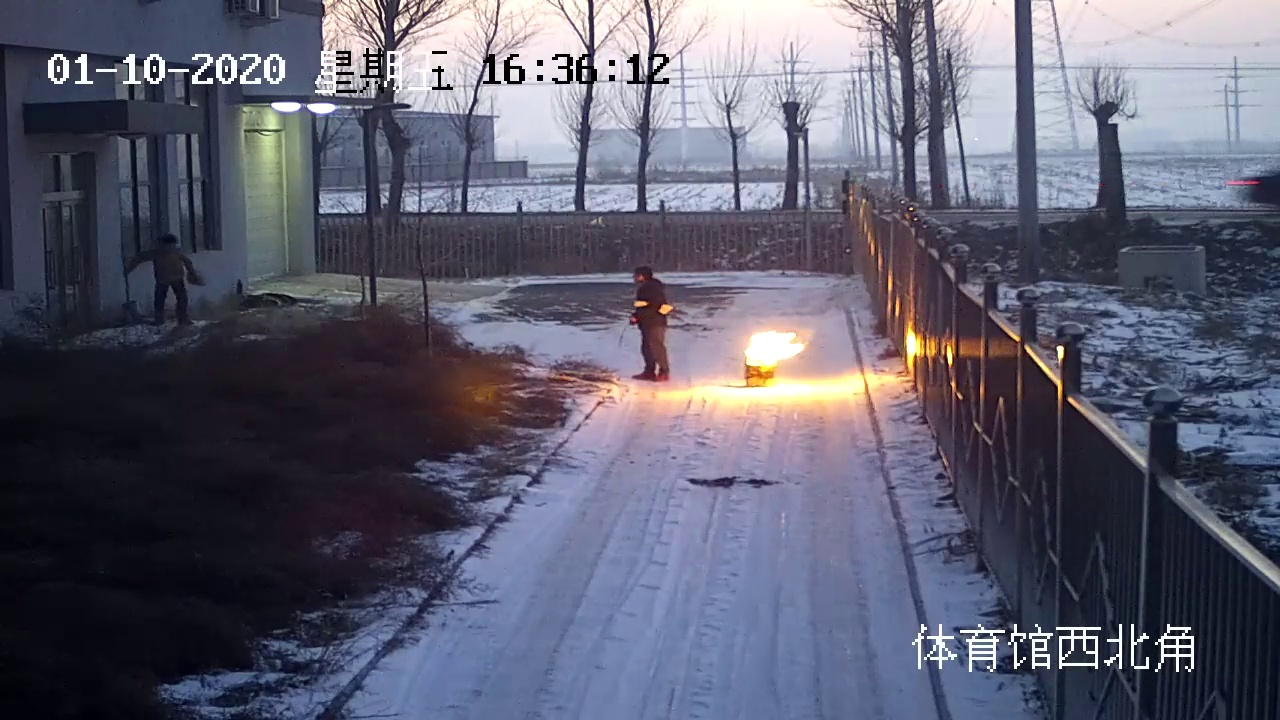fire: (745, 328, 815, 373)
